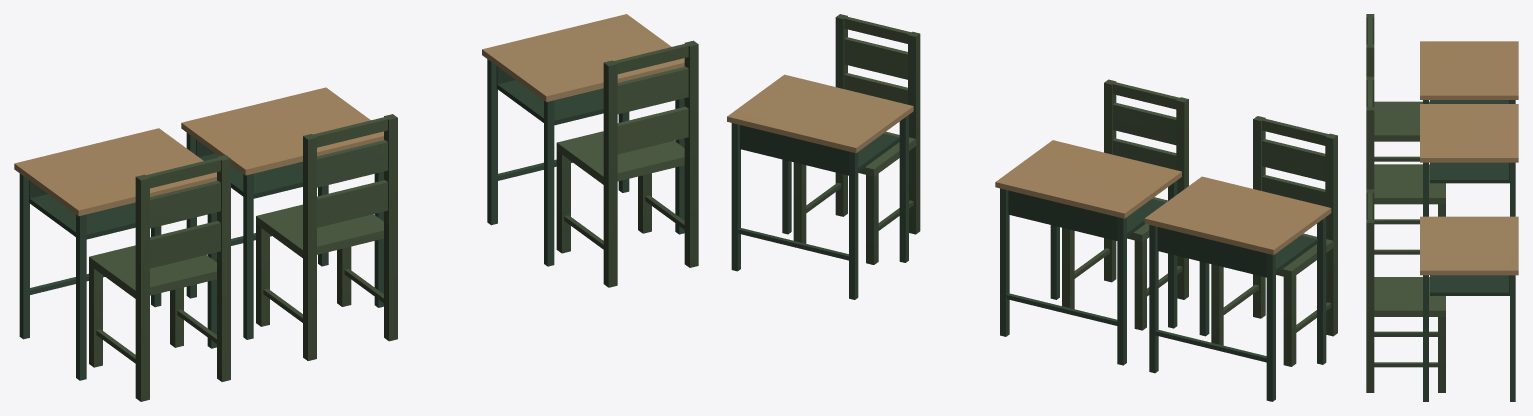
The model's file is table.school_desks_three_left.green.glb.
3 views of the same model, side by side, from view 1: azimuth 30°, elevation 25°; view 2: azimuth 150°, elevation 25°; view 3: azimuth 270°, elevation 25° (orthographic). The views are drawn at different scales.
Visible parts, largest first — view 1: table_school_desks_three_left_green; view 2: table_school_desks_three_left_green; view 3: table_school_desks_three_left_green.
Boxes of the visible parts, x1,y1,x2,y2 form: table_school_desks_three_left_green: [14, 14, 698, 401]; table_school_desks_three_left_green: [727, 14, 1337, 401]; table_school_desks_three_left_green: [1366, 14, 1518, 401].
Size of what is drawn, in the model's own units: 2.75 by 0.95 by 0.772.
